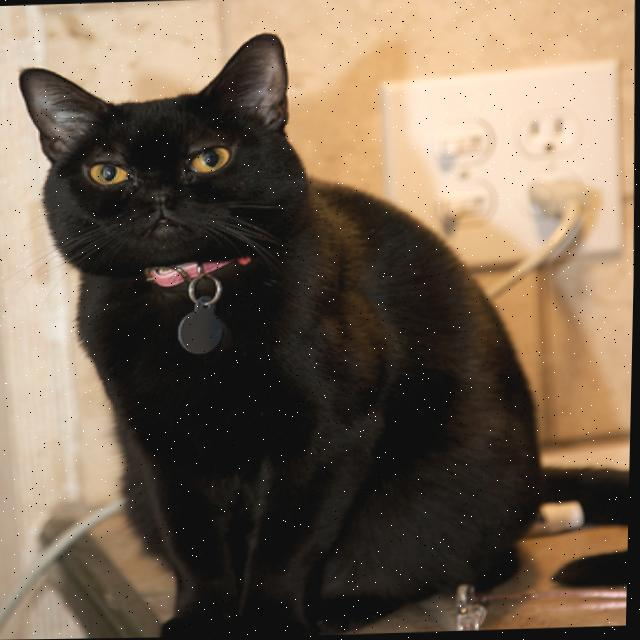Bombay: (2, 17, 640, 640)
